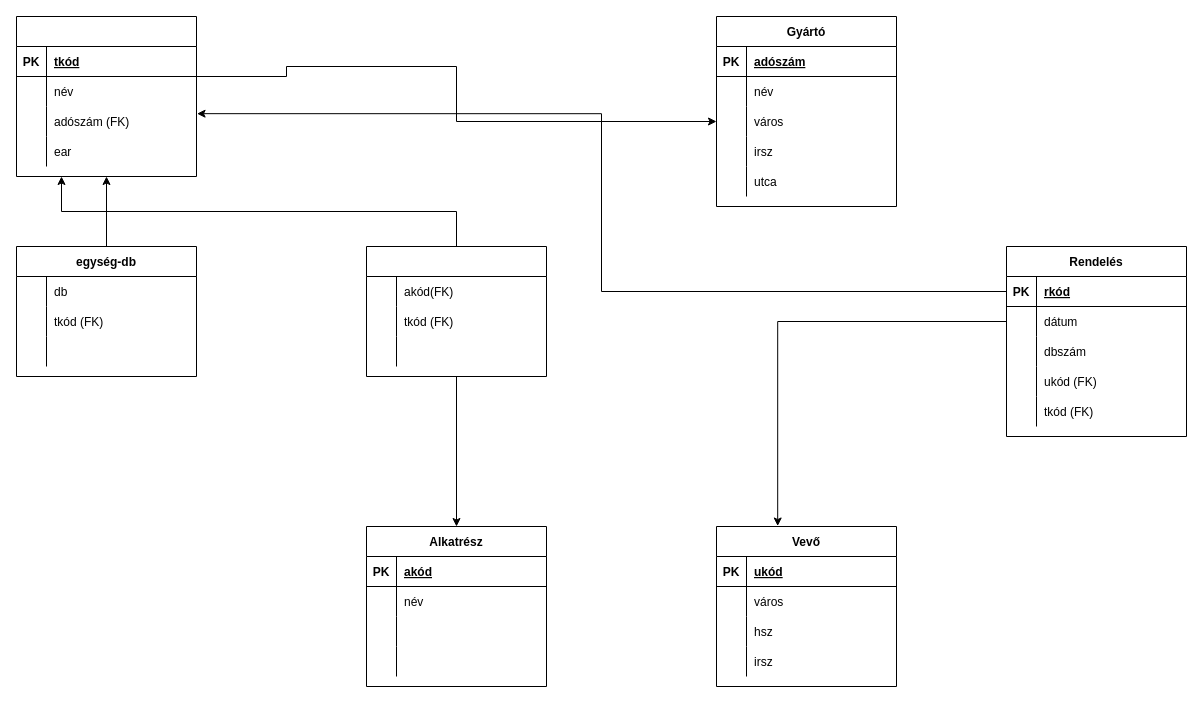
Image size: 1203x703. Some labels were removed from this diagram. The shapes that lost their labels are listed below. From the top down, each one's box as (x1, y1, x2, y2) in pixels, then its label:
(16, 16, 196, 176): Termék
(366, 246, 546, 376): Termék-Alkatrész
